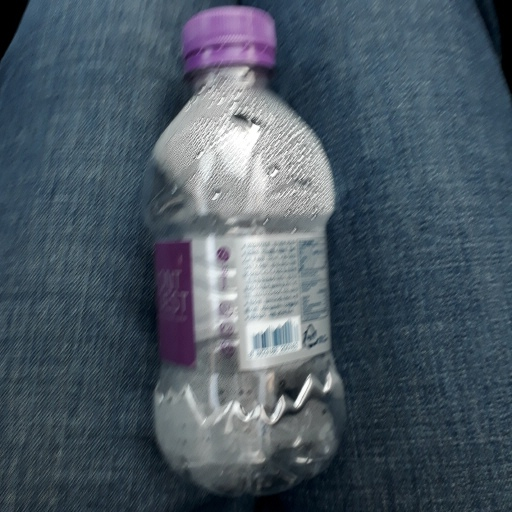Plastic_0: (139, 4, 346, 495)
